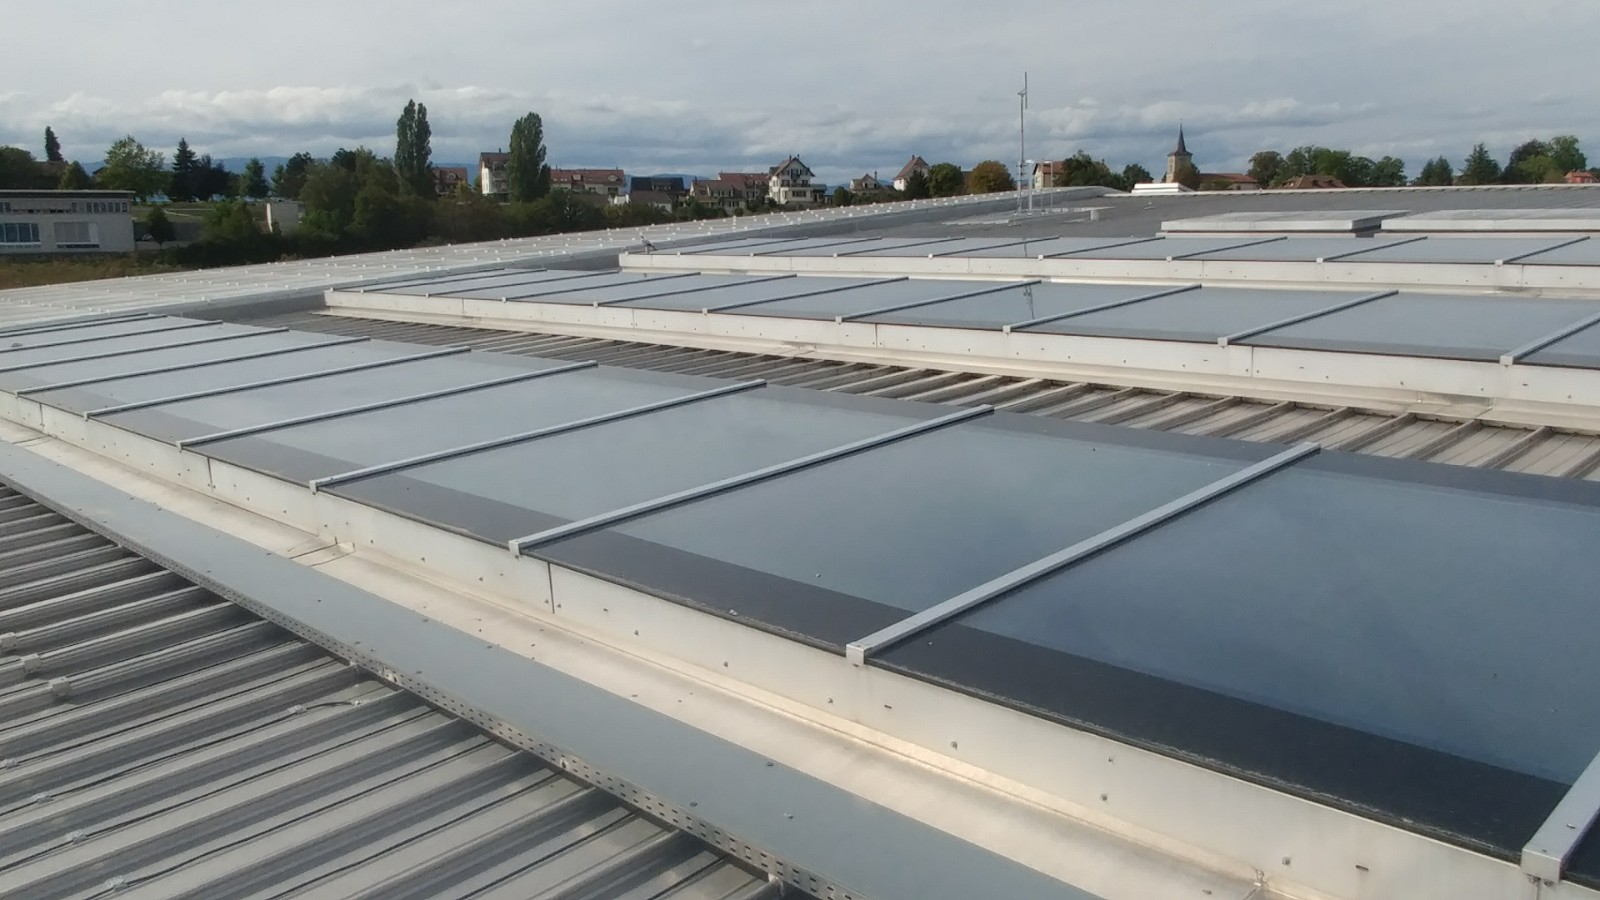Pigeon: (635, 232, 662, 252)
